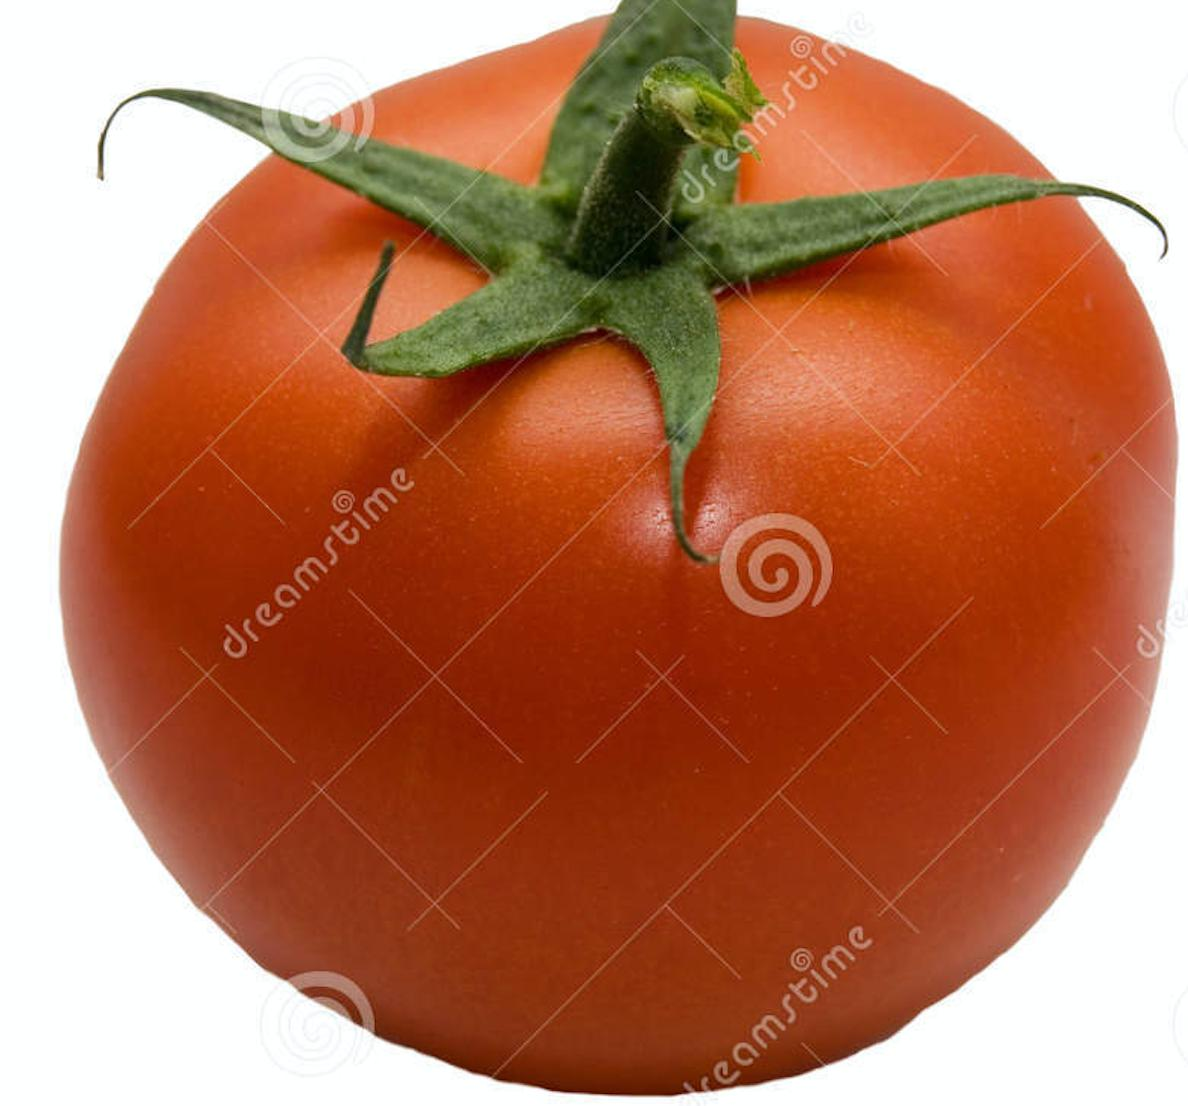tomato: (61, 25, 1174, 1085)
